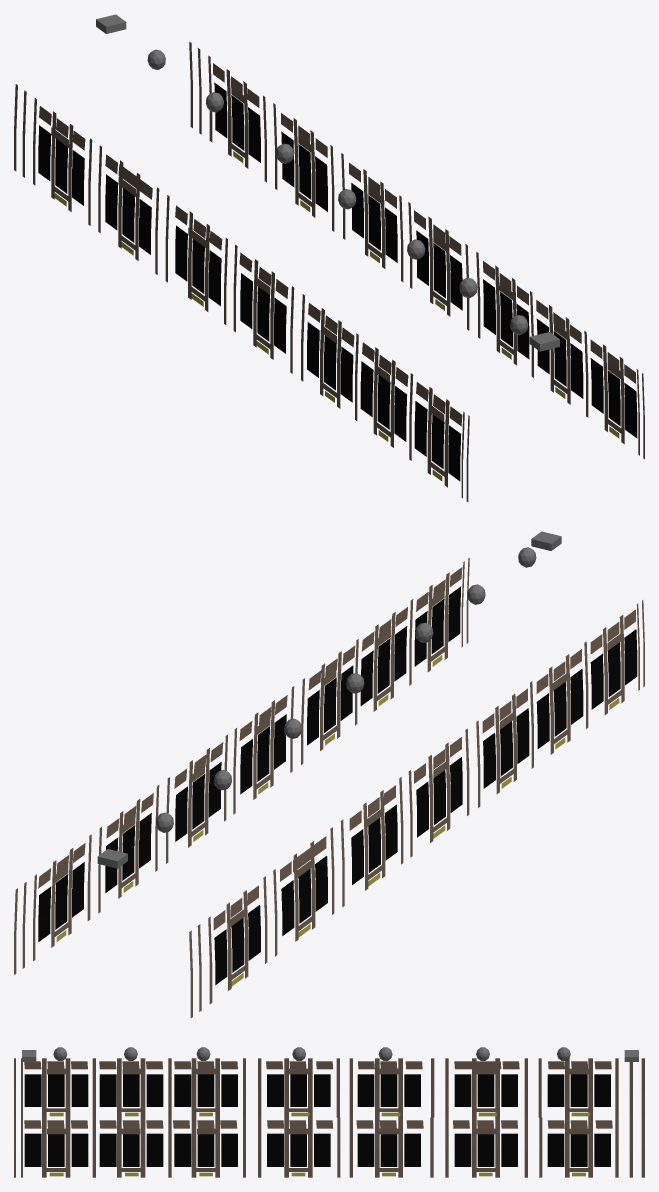
File: lnwr-50ft-non-cor-composite-windows.dae
The picture shows the model from 3 angles, top to bottom: view 1: azimuth 30°, elevation 25°; view 2: azimuth 150°, elevation 25°; view 3: azimuth 270°, elevation 25°; orthographic projection. The views are drawn at different scales.
Parts seen in each view (by area): view 1: no part large enough to name; view 2: no part large enough to name; view 3: Plane_1888, Plane_1906, Plane_1973, Plane_1773, Plane_1800, Plane_1855, Plane_1910, Plane_1969, Plane_1771, Plane_1778, Plane_1781, Plane_1792 (+82 smaller).
Boxes of the visible parts, x1=… form: Plane_1888: x1=174, y1=1133, x2=191, y2=1166; Plane_1906: x1=24, y1=1133, x2=41, y2=1166; Plane_1973: x1=99, y1=1133, x2=116, y2=1166; Plane_1773: x1=547, y1=1133, x2=564, y2=1166; Plane_1800: x1=454, y1=1133, x2=471, y2=1166; Plane_1855: x1=357, y1=1133, x2=374, y2=1166; Plane_1910: x1=71, y1=1133, x2=88, y2=1166; Plane_1969: x1=146, y1=1133, x2=163, y2=1166; Plane_1771: x1=570, y1=1134, x2=587, y2=1166; Plane_1778: x1=547, y1=1074, x2=564, y2=1106; Plane_1781: x1=570, y1=1074, x2=587, y2=1106; Plane_1792: x1=477, y1=1074, x2=494, y2=1106.
Bounding box in the file's own units: 1.94 × 8.62 × 1.49.
